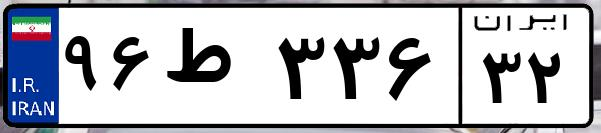2: (525, 38, 570, 115)
3: (270, 28, 330, 110), (330, 28, 385, 110), (475, 38, 525, 113)
6: (385, 28, 445, 110), (110, 28, 158, 98)
9: (57, 26, 110, 100)
ط: (158, 20, 270, 120)
